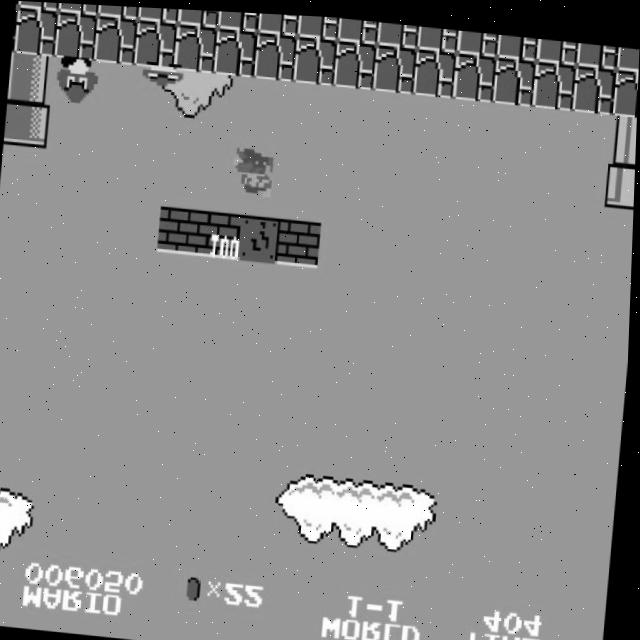1- brick_block: (159, 204, 203, 254), (199, 208, 243, 258), (279, 215, 323, 265)
11- little_mario: (229, 146, 276, 197)
13- mystery_block: (239, 212, 283, 261)
14- pipe: (11, 53, 55, 102), (609, 108, 638, 157), (9, 53, 14, 99)
15- pipe_head: (7, 98, 51, 148), (606, 154, 636, 203), (5, 99, 10, 144)
17- undestructible_block: (14, 7, 59, 57), (293, 33, 338, 83), (373, 40, 418, 90), (333, 37, 378, 86), (54, 11, 98, 61), (94, 14, 138, 64), (134, 18, 178, 68), (214, 26, 258, 76), (254, 29, 298, 79), (413, 44, 457, 94), (453, 48, 497, 98), (533, 55, 577, 105), (573, 59, 617, 109), (174, 22, 218, 71), (493, 52, 537, 101), (614, 62, 639, 111), (536, 33, 579, 60), (337, 14, 379, 41), (377, 18, 419, 45), (417, 22, 459, 49), (497, 29, 539, 56), (576, 37, 619, 63), (457, 26, 499, 52), (296, 12, 339, 37), (256, 10, 299, 33), (217, 9, 260, 30), (178, 7, 220, 26), (138, 6, 180, 22), (98, 4, 140, 19), (617, 40, 640, 66), (58, 2, 100, 15), (18, 1, 60, 11), (12, 7, 18, 53), (16, 1, 19, 7)
8- goomba: (53, 54, 100, 107)
